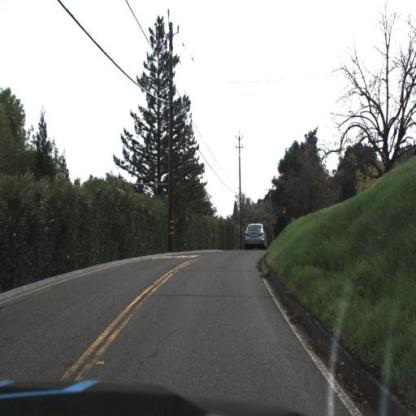car: (244, 222, 272, 252)
